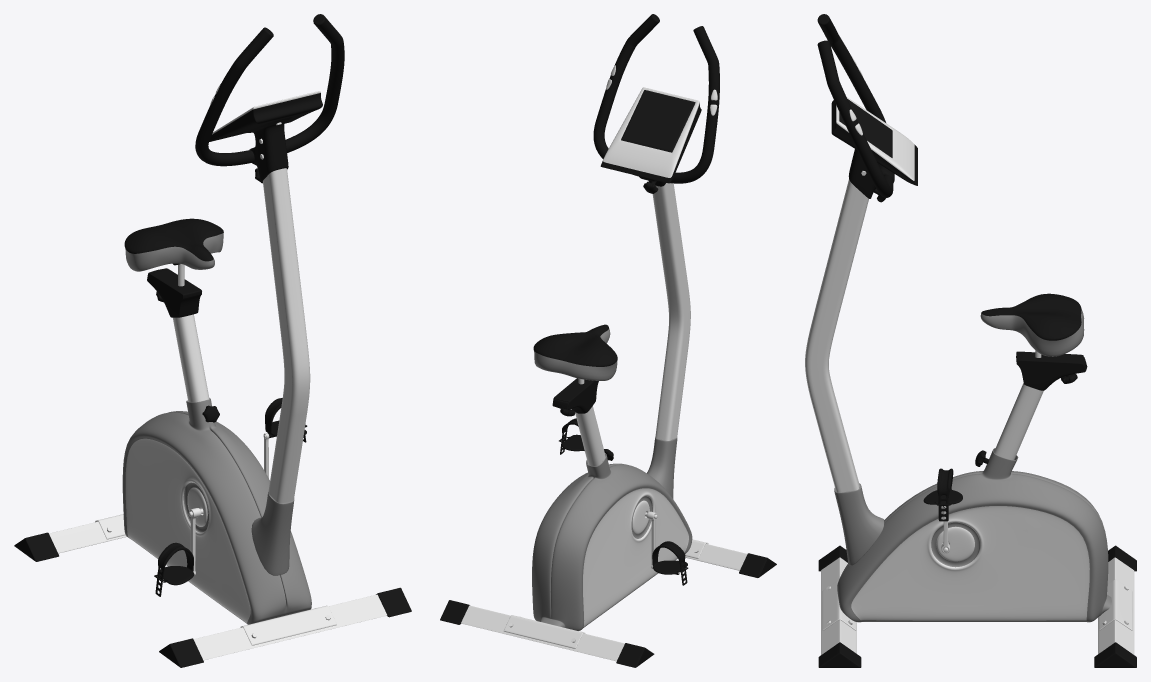
Rendered from asset.glb.
3 views of the same model, side by side, from view 1: azimuth 30°, elevation 25°; view 2: azimuth 150°, elevation 25°; view 3: azimuth 270°, elevation 25° (orthographic). The views are drawn at different scales.
Parts seen in each view (by area): view 1: Traning_bicycle; view 2: Traning_bicycle; view 3: Traning_bicycle.
Boxes of the visible parts, x1=… form: Traning_bicycle: x1=14, y1=14, x2=411, y2=667; Traning_bicycle: x1=440, y1=14, x2=776, y2=667; Traning_bicycle: x1=805, y1=14, x2=1136, y2=667.
Bounding box in the file's own units: 0.5198 × 1.32 × 0.6776.
Materials: 1 (1 with a texture image).
